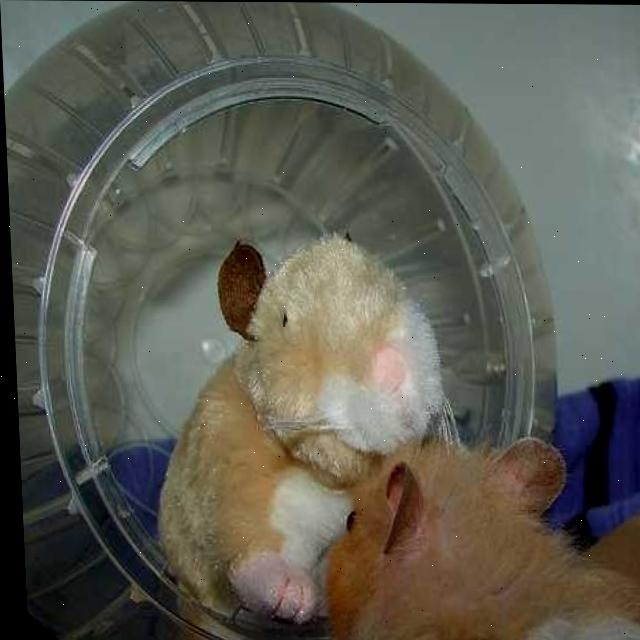guinea pig: (152, 225, 448, 621), (314, 432, 640, 640)
